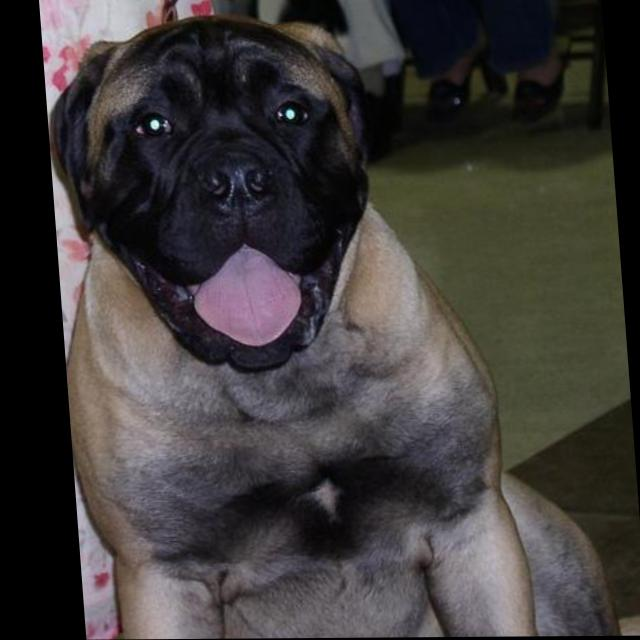bullmastiff: (41, 10, 639, 640)
